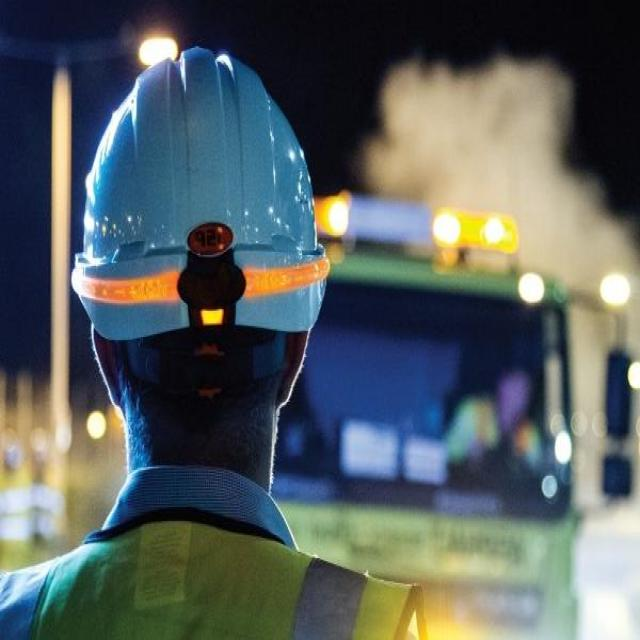Reflective-Jacket: (0, 501, 428, 640)
Safety-Helmet: (67, 46, 333, 334)
